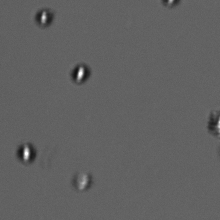Living Cell: (71, 168, 95, 193), (16, 139, 37, 165), (70, 62, 91, 85), (34, 7, 53, 27)
